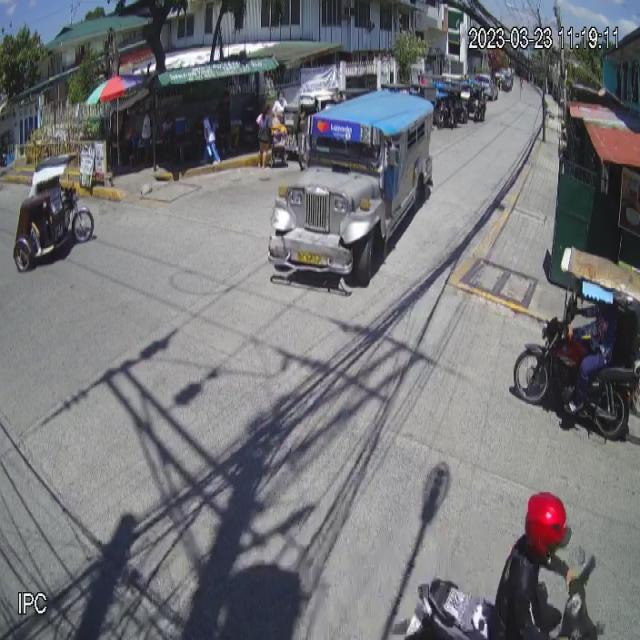Jeep: (268, 89, 436, 289)
Tricycle: (511, 244, 640, 446), (12, 151, 95, 275)
